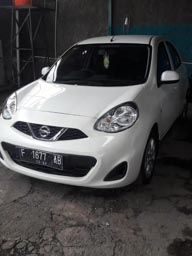plat: (17, 148, 64, 165)
